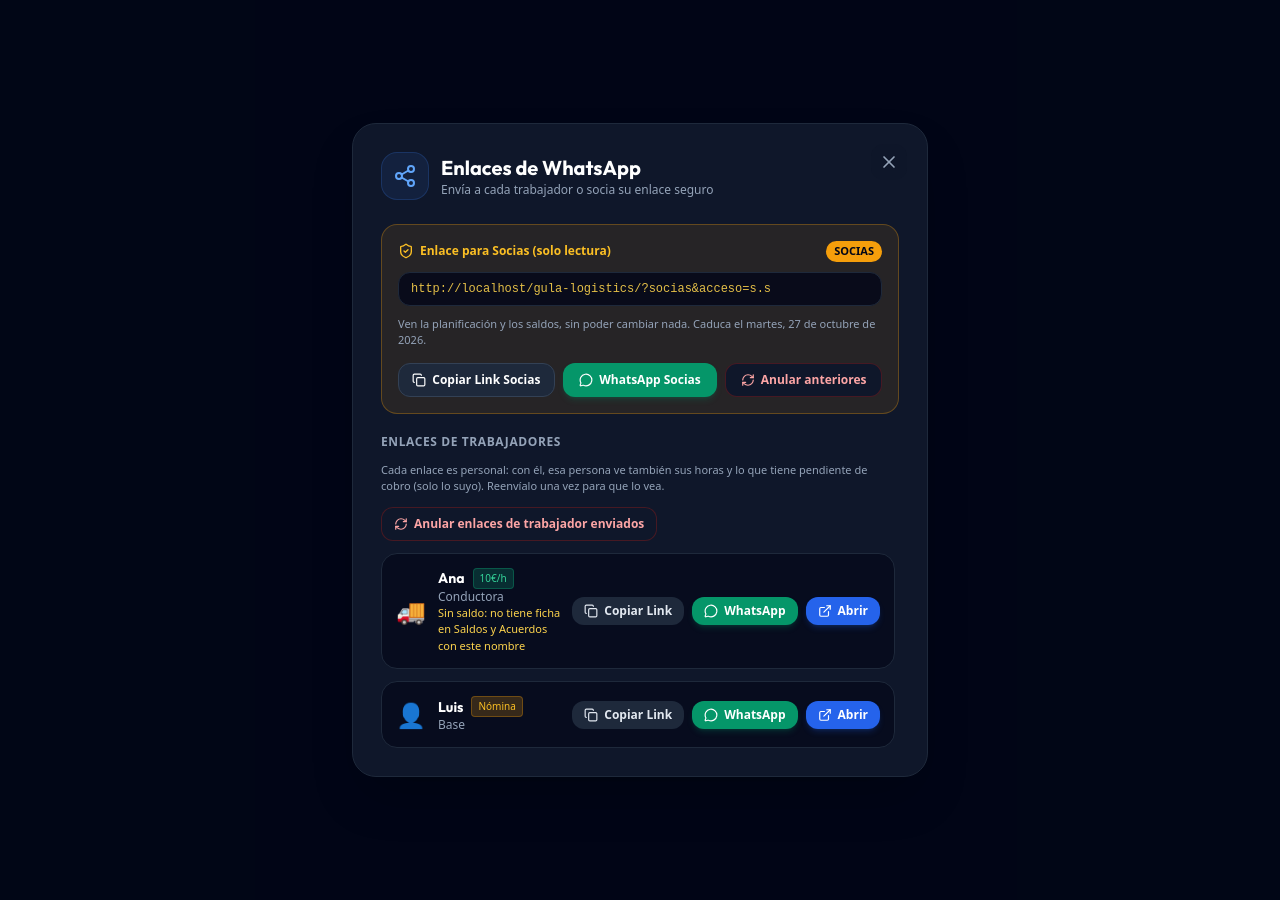
Scenario: enlaces firmados de los trabajadores (ven su saldo) › si se cancela la confirmación no anula nada
The image size is (1280, 900).
Expected: the text "Cada enlace es personal" is shown, [381,462,867,493]
Click the button "Anular enlaces de trabajador enviados" at point(519, 524), box [381,506,657,540]
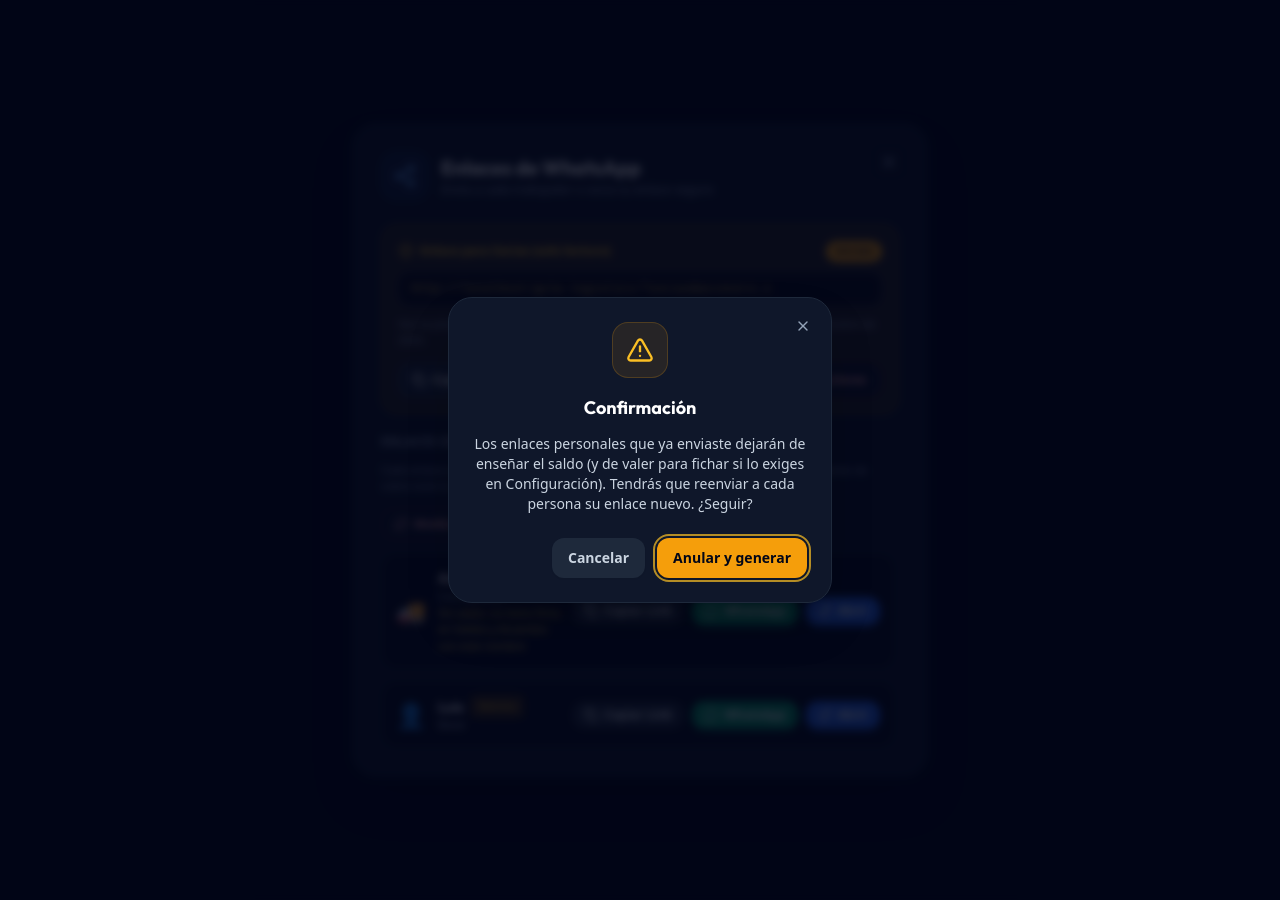
Click the button "Cancelar" at point(599, 558), box [552,538,645,578]
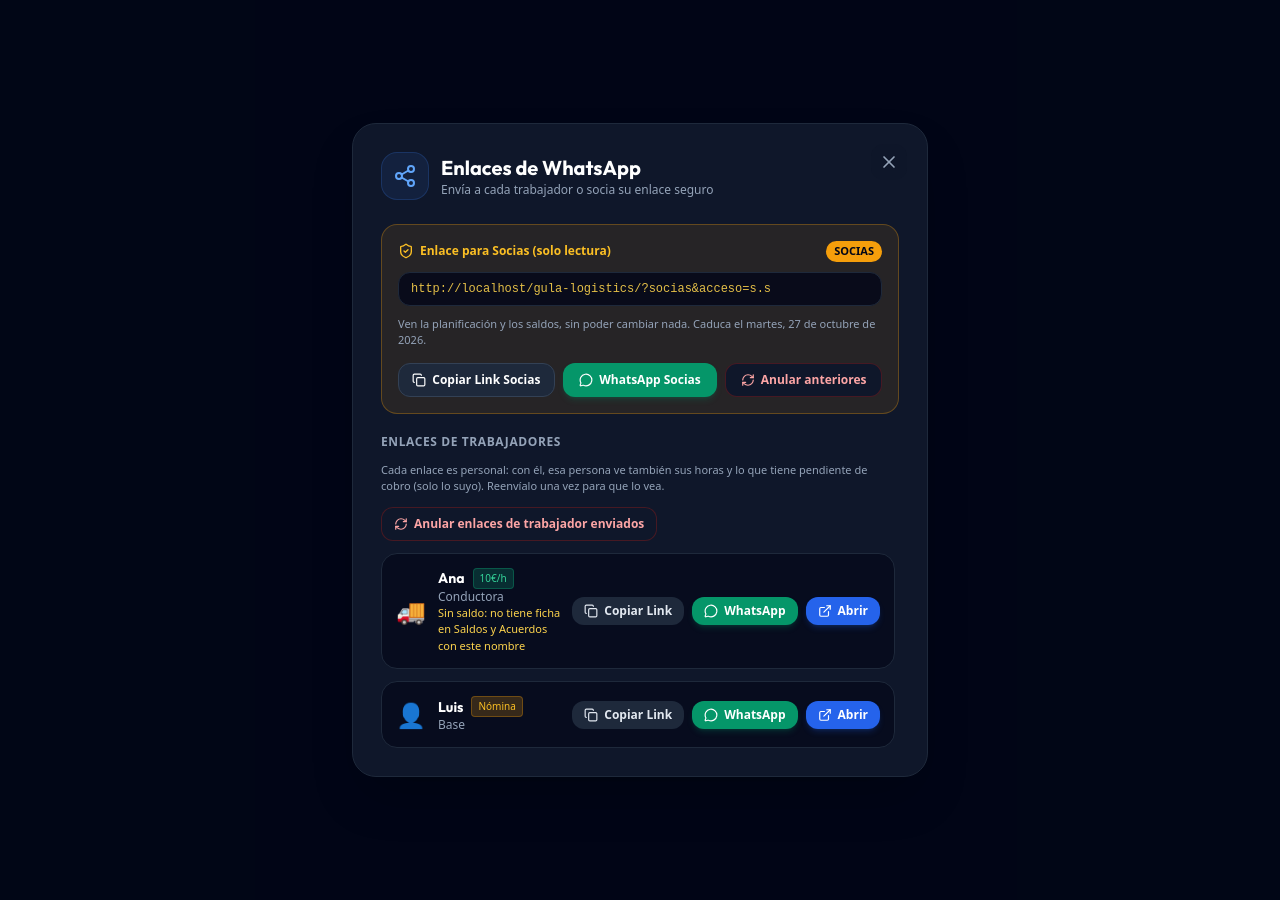
Now the heading "Confirmación" is gone
